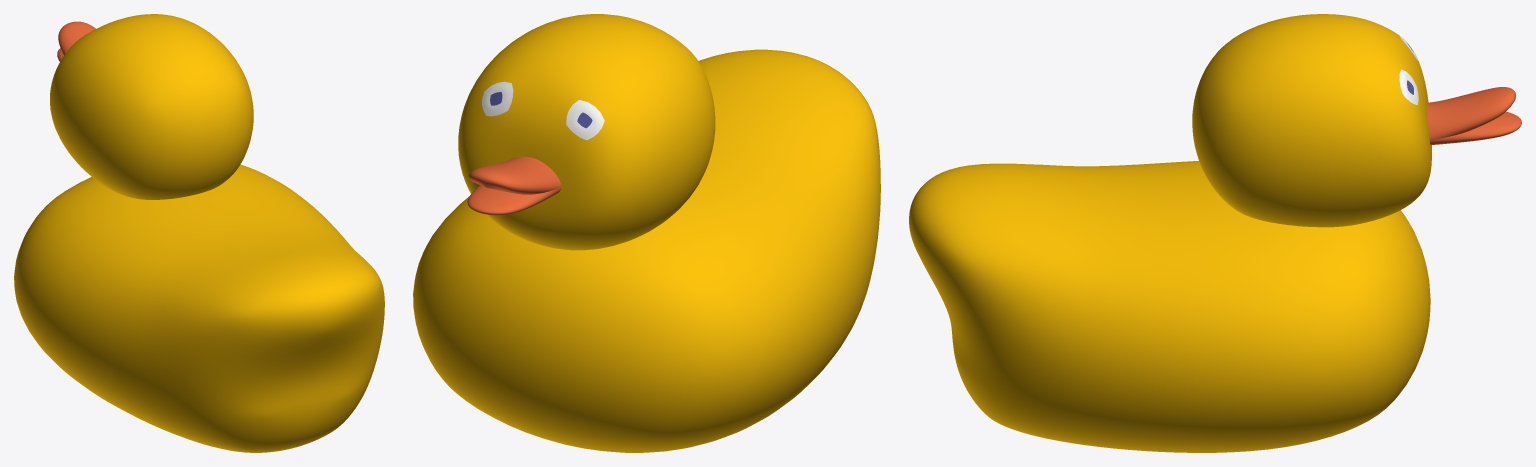
File: BadAnka.gltf
3 renders of one model, left to right at view 1: azimuth 30°, elevation 25°; view 2: azimuth 150°, elevation 25°; view 3: azimuth 270°, elevation 25°, orthographic. The views are drawn at different scales.
Parts seen in each view (by area): view 1: Anka; view 2: Anka; view 3: Anka.
Part boxes in pixels (x1=…): Anka: x1=14, y1=14, x2=384, y2=452; Anka: x1=413, y1=14, x2=880, y2=452; Anka: x1=909, y1=14, x2=1521, y2=452.
Size of the model in its own units: 0.3528 by 0.4021 by 0.5595.
